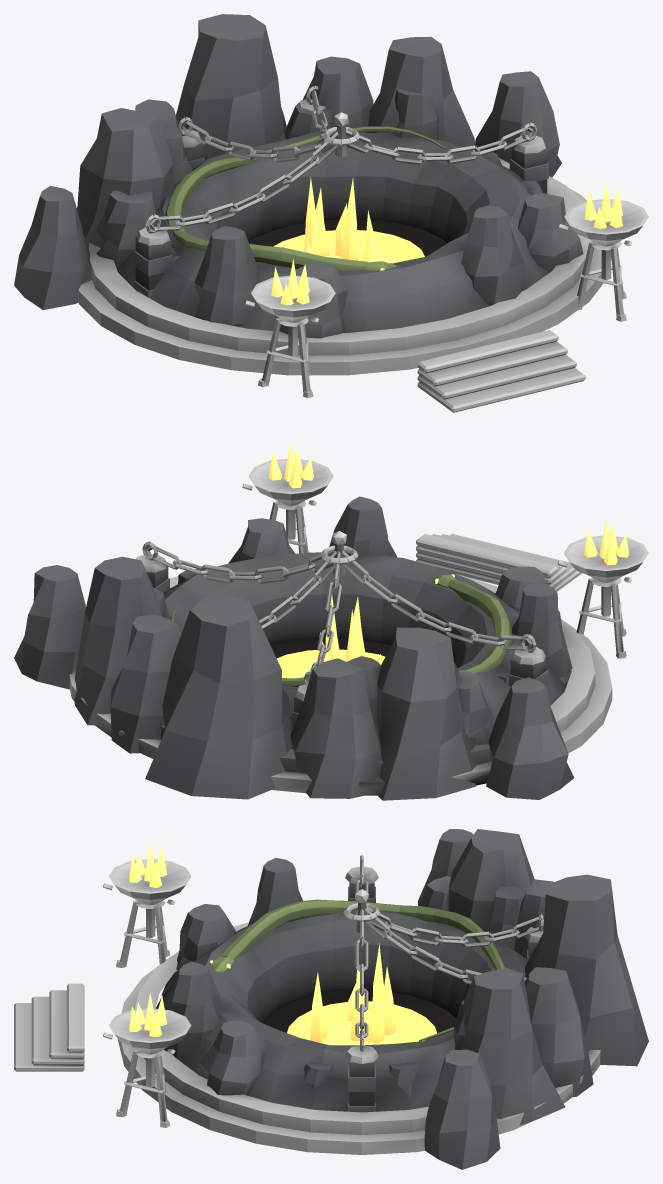
Rendered from pit-of-tartarus-l1.glb.
3 views of the same model, one above another, from view 1: azimuth 30°, elevation 25°; view 2: azimuth 150°, elevation 25°; view 3: azimuth 270°, elevation 25° (orthographic). The views are drawn at different scales.
Visible parts, largest first — view 1: pit-of-tartarus-l1; view 2: pit-of-tartarus-l1; view 3: pit-of-tartarus-l1.
Boxes of the visible parts, x1,y1,x2,y2 form: pit-of-tartarus-l1: (14,14,648,412); pit-of-tartarus-l1: (14,442,648,800); pit-of-tartarus-l1: (14,829,648,1169).
Bounding box in the file's own units: 1.65 × 0.4592 × 1.7.
